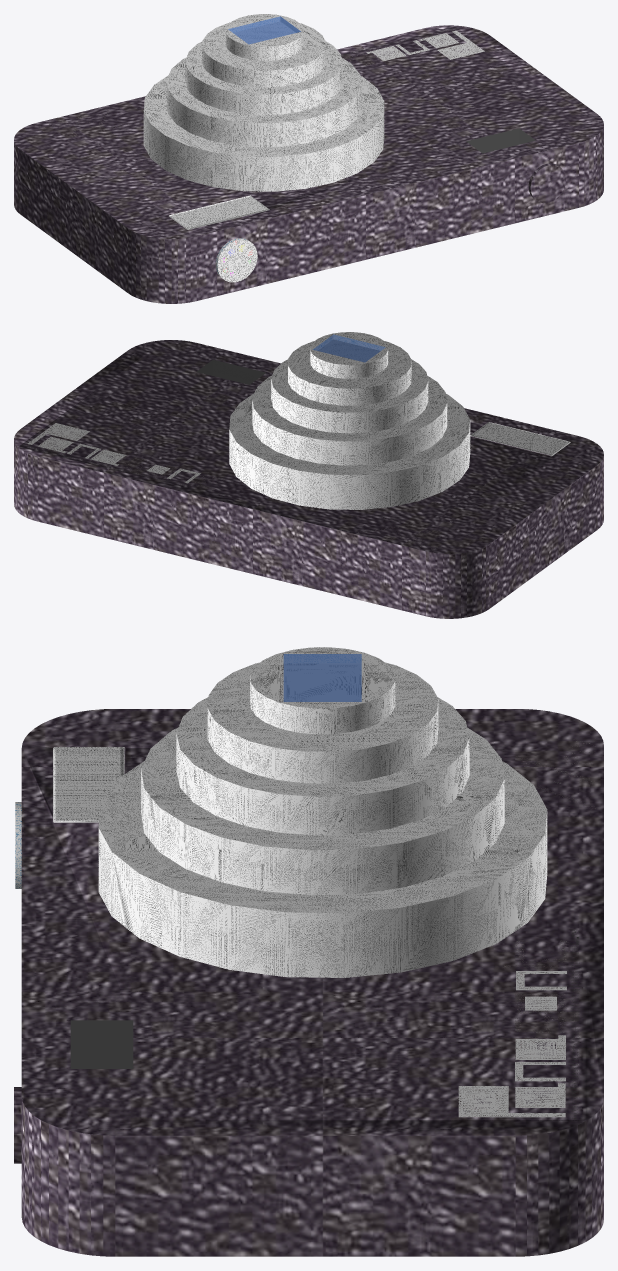
Rendered from model_scale.obj.
The picture shows the model from 3 angles, top to bottom: view 1: azimuth 30°, elevation 25°; view 2: azimuth 150°, elevation 25°; view 3: azimuth 270°, elevation 25°; orthographic projection. The views are drawn at different scales.
Parts seen in each view (by area): view 1: mesh1_mesh1-geometry; view 2: mesh1_mesh1-geometry; view 3: mesh1_mesh1-geometry.
Boxes of the visible parts, x1=… form: mesh1_mesh1-geometry: x1=14, y1=14, x2=603, y2=303; mesh1_mesh1-geometry: x1=14, y1=332, x2=603, y2=618; mesh1_mesh1-geometry: x1=14, y1=647, x2=603, y2=1256.
Bounding box in the file's own units: 0.1296 × 0.0477 × 0.0757.
